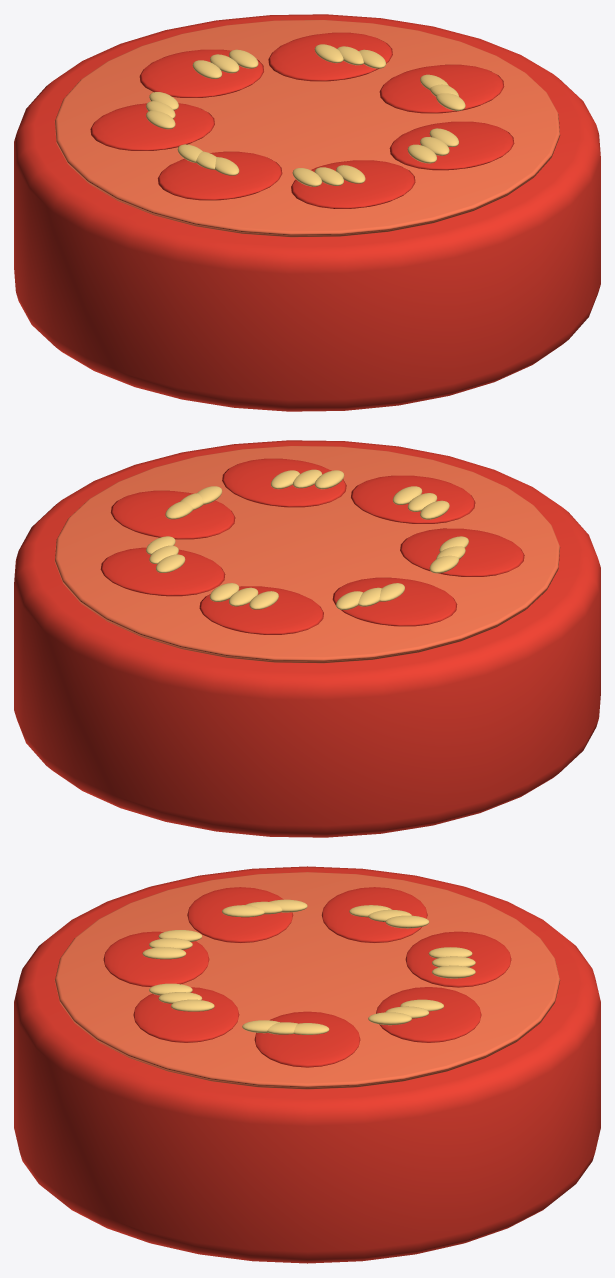
Rendered from tomato.glb.
The picture shows the model from 3 angles, top to bottom: view 1: azimuth 30°, elevation 25°; view 2: azimuth 150°, elevation 25°; view 3: azimuth 270°, elevation 25°; orthographic projection.
Visible parts, largest first — view 1: Batch Tomato skin, Tomato cut face, Batch Tomato seeds; view 2: Batch Tomato skin, Tomato cut face, Batch Tomato seeds; view 3: Batch Tomato skin, Tomato cut face, Batch Tomato seeds.
Part boxes in pixels (x1,y1,x2,y2): Batch Tomato skin: (14,14,600,411); Tomato cut face: (54,20,560,237); Batch Tomato seeds: (146,44,465,186); Batch Tomato skin: (14,440,600,837); Tomato cut face: (54,446,560,663); Batch Tomato seeds: (146,469,468,609); Batch Tomato skin: (14,866,600,1263); Tomato cut face: (54,872,560,1089); Batch Tomato seeds: (142,899,475,1034).
Size of the model in its own units: 0.72 by 0.248 by 0.72.
